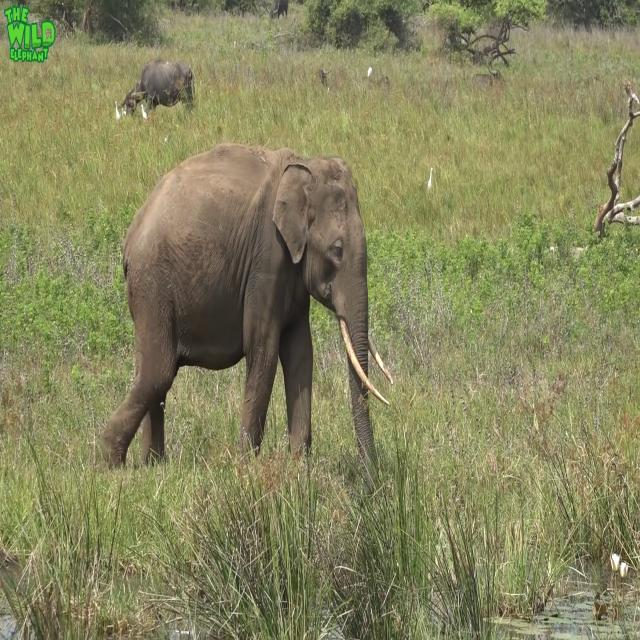Elephant: (100, 142, 393, 498), (114, 57, 194, 121)
